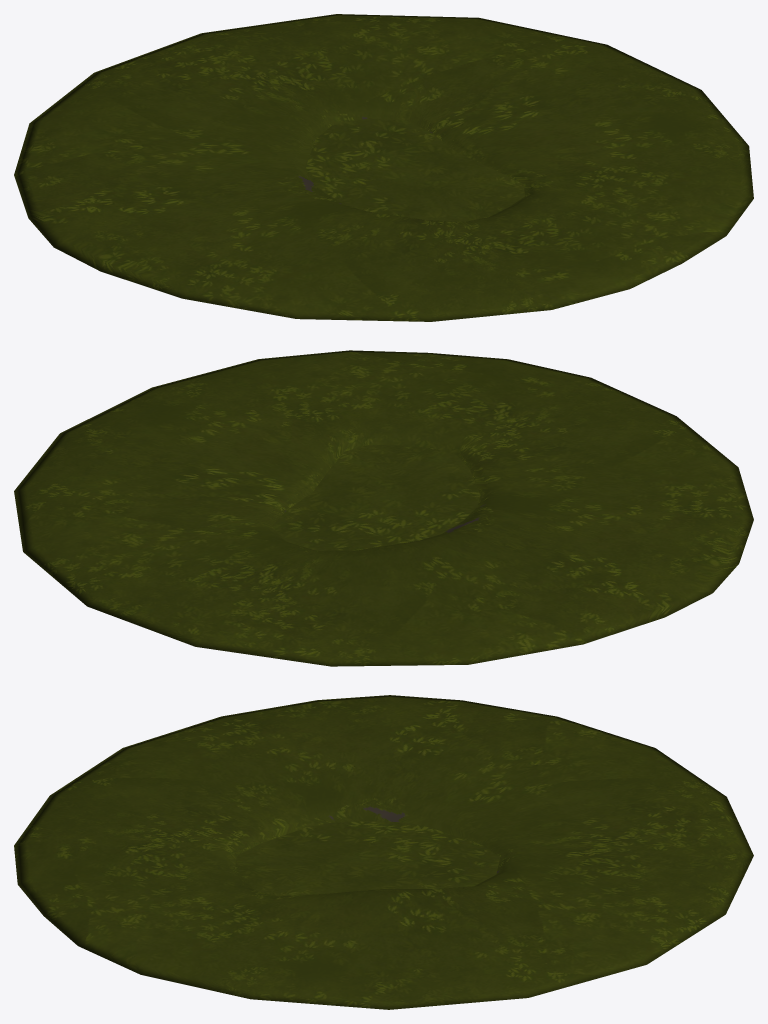
Rendered from ground.glb.
The picture shows the model from 3 angles, top to bottom: view 1: azimuth 30°, elevation 25°; view 2: azimuth 150°, elevation 25°; view 3: azimuth 270°, elevation 25°; orthographic projection.
Parts seen in each view (by area): view 1: Plane.018; view 2: Plane.018; view 3: Plane.018.
Boxes of the visible parts, bbox=[...] form: Plane.018: bbox=[14, 14, 753, 321]; Plane.018: bbox=[14, 350, 753, 666]; Plane.018: bbox=[14, 695, 753, 1009].
Size of what is drawn, in the model's own units: 32.72 by 0.4203 by 32.5.
1 material, 1 textured.
